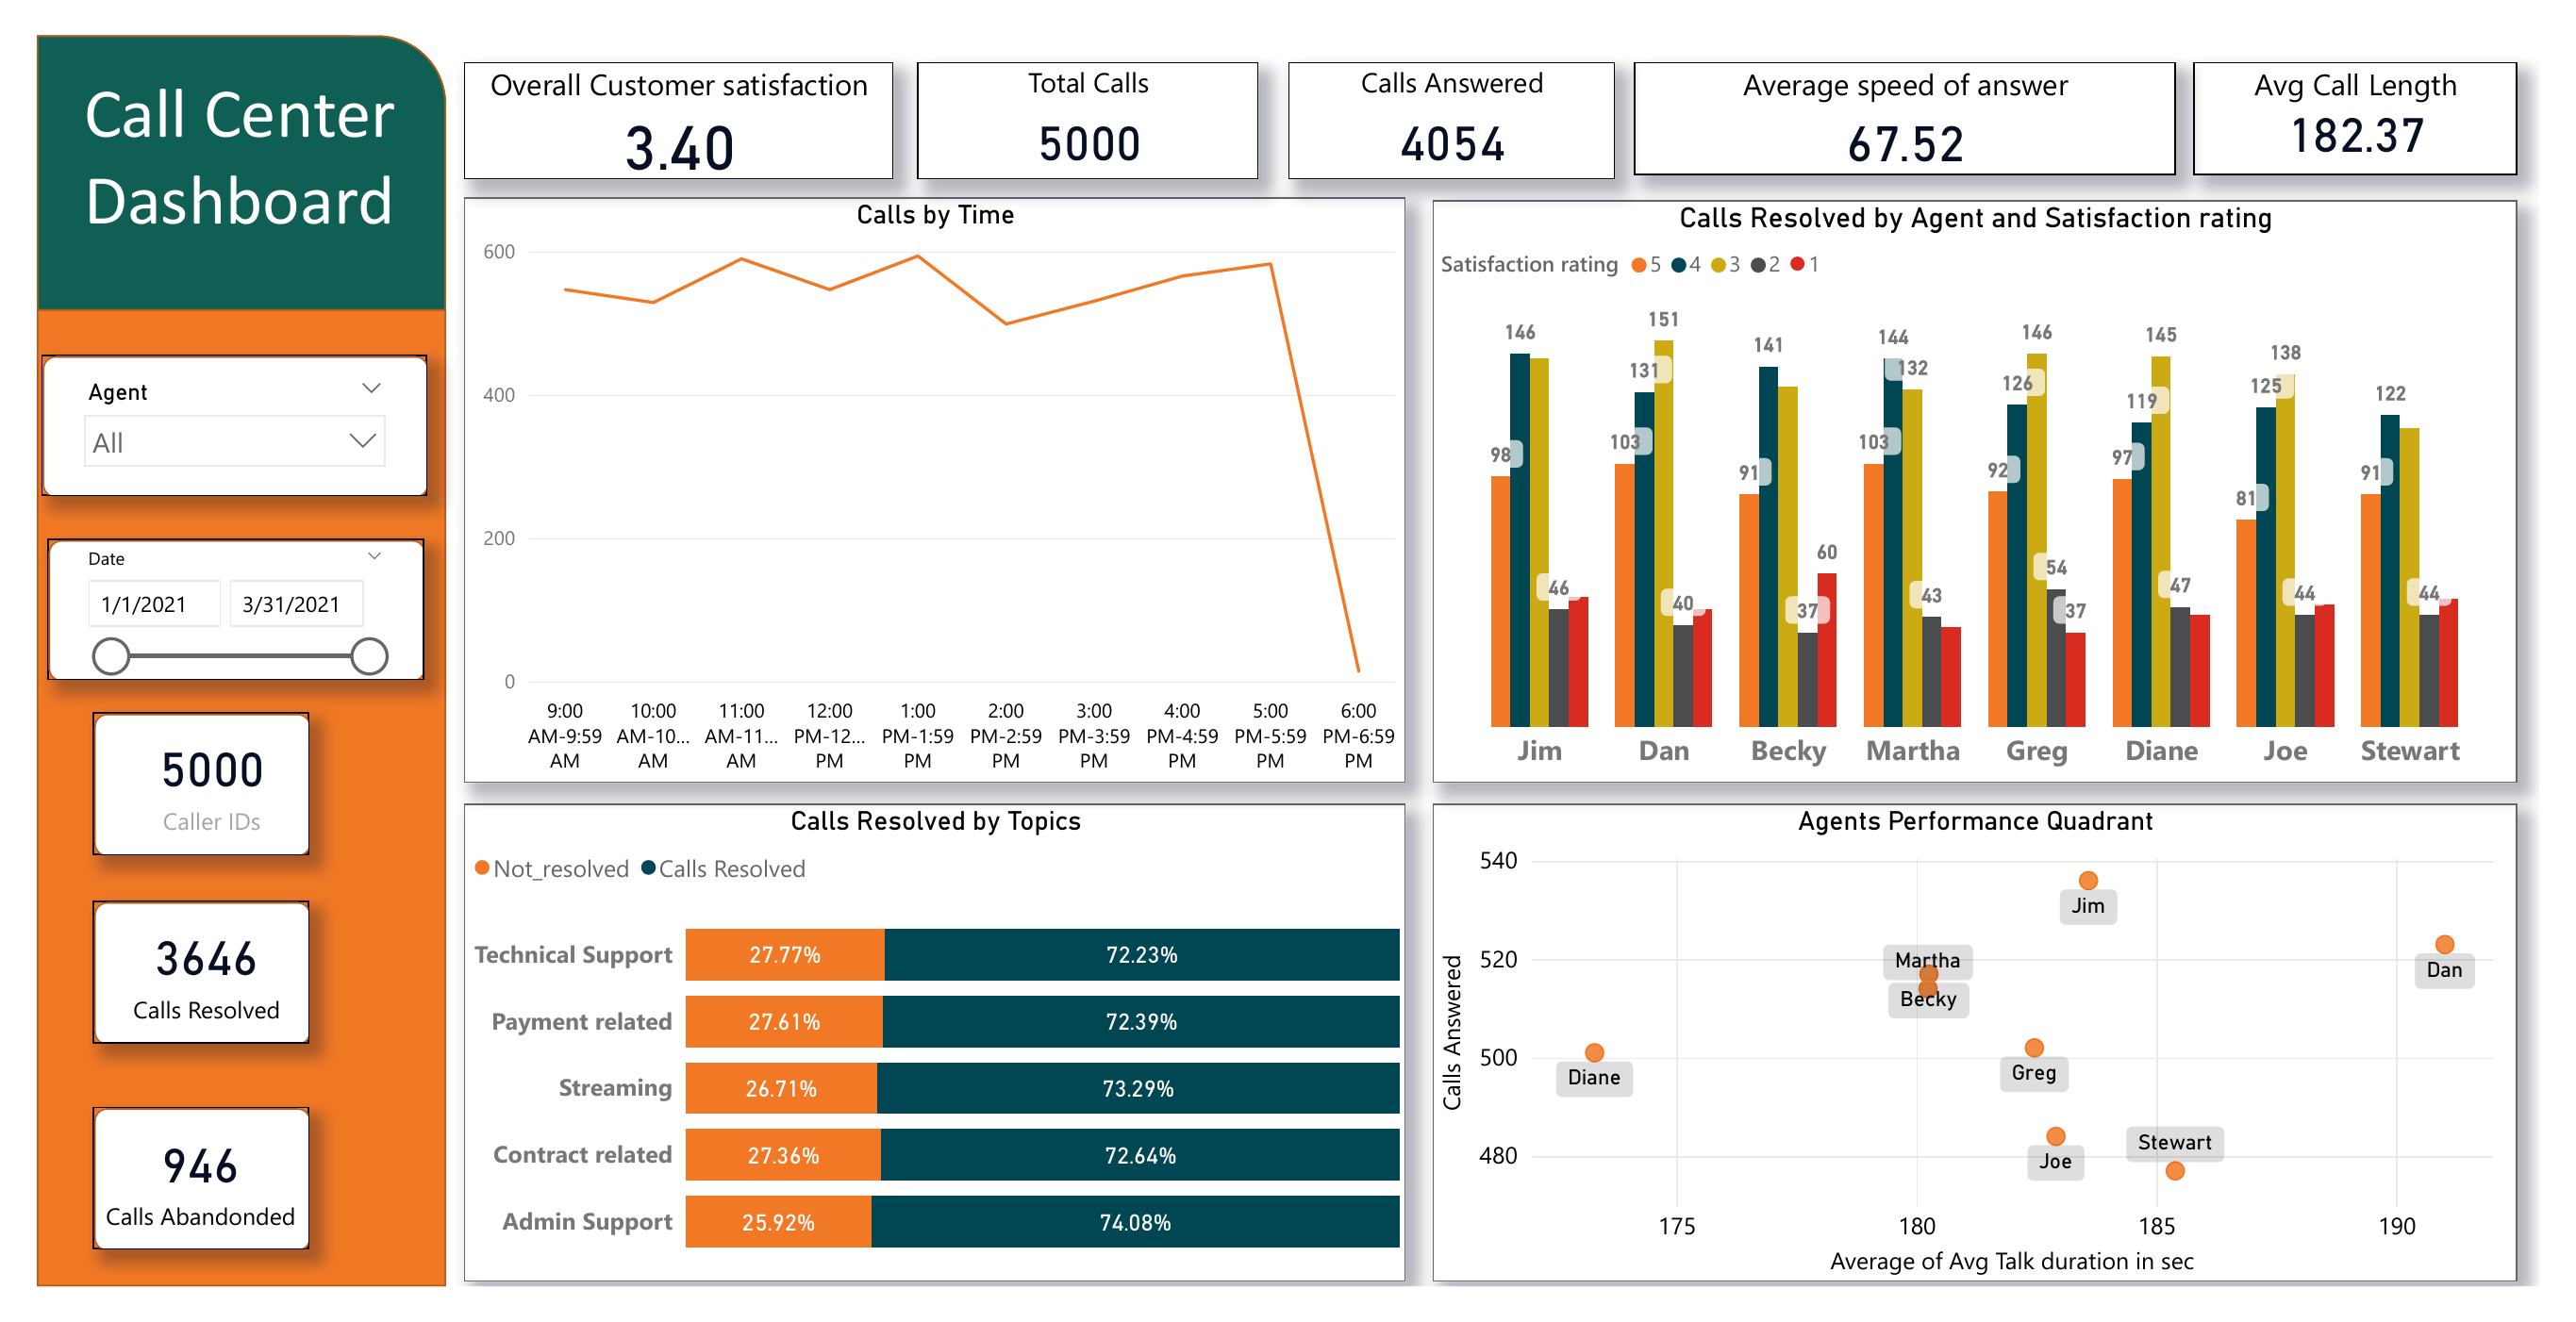

The page's visual inventory and layout, read from the dashboard file:
{"tool":"powerbi","page":{"name":"Page 1","canvas":[1700,850],"ordinal":0},"visuals":[{"type":"lineClusteredColumnComboChart","fields":{"Category":["Table1.Agent"],"Y":["Base Measures.Calls Resolved"],"Series":["Table1.Satisfaction rating"]},"box":[948.3,111.7,736.7,396.7],"z":3000},{"type":"card","title":"Average speed of answer","fields":{"Values":["Table1.Speed of answer in seconds"]},"box":[1085,18.3,368.3,76.7],"z":4000},{"type":"card","title":"Overall Customer satisfaction","fields":{"Values":["Table1.Satisfaction rating"]},"box":[290,18.3,291.7,80],"z":5000},{"type":"slicer","fields":{"Values":["Table1.Agent"]},"box":[26.7,216.7,225,81.7],"z":6000},{"type":"scatterChart","title":"Agents Performance Quadrant","fields":{"X":["Table1.Avg Talk duration in sec"],"Category":["Table1.Agent"],"Y":["Base Measures.Calls Answered"]},"box":[948.3,521.7,736.7,325],"z":8000},{"type":"card","title":"Avg Call Length","fields":{"Values":["Table1.Avg Talk duration in sec"]},"box":[1465,18.3,220,76.7],"z":9000},{"type":"hundredPercentStackedBarChart","title":"Calls Resolved by Topics","fields":{"Category":["Table1.Topic"],"Y":["Base Measures.Not_resolved","Base Measures.Calls Resolved"]},"box":[290,521.7,640,325],"z":10000},{"type":"lineChart","title":"Calls by Time ","fields":{"Y":["Base Measures.Total calls"],"Category":["Table1.Time interval"]},"box":[290,110,640,398.3],"z":10001},{"type":"shape","box":[0,0,278.3,850],"z":10002},{"type":"shape","box":[38.3,460,146.7,96.7],"z":10005},{"type":"card","title":"Calls Answered","fields":{"Values":["Base Measures.Calls Answered"]},"box":[850,18.3,221.7,80],"z":10006},{"type":"shape","box":[38.3,588.3,146.7,96.7],"z":10007},{"type":"shape","box":[38.3,728.3,146.7,96.7],"z":10008},{"type":"card","fields":{"Values":["Base Measures.Calls Abandonded"]},"box":[38.3,726.7,146.7,98.3],"z":10009},{"type":"card","fields":{"Values":["Base Measures.Calls Resolved"]},"box":[48.3,593.3,135,85],"z":10010},{"type":"shape","box":[6.7,341.7,256.7,96.7],"z":10013},{"type":"textbox","box":[26.7,18.3,373.3,131.7],"z":10016},{"type":"card","title":"Total Calls","fields":{"Values":["Base Measures.Total calls"]},"box":[598.3,18.3,231.7,80],"z":10017},{"type":"card","fields":{"Values":["Table1.Caller IDs"]},"box":[0,465,238.3,85],"z":10018},{"type":"slicer","fields":{"Values":["Table1.Date"]},"box":[21.7,341.7,225,96.7],"z":10019},{"type":"shape","box":[3.3,216.7,261.7,96.7],"z":10020},{"type":"slicer","fields":{"Values":["Table1.Agent"]},"box":[21.7,228.3,225,101.7],"z":10021},{"type":"shape","box":[0,0,278.3,186.7],"z":10022},{"type":"textbox","box":[26.7,18.3,373.3,143.3],"z":10023}]}

Visuals, with their boxes on the page's 1700x850 design canvas (x1, y1, x2, y2). These are canvas units, not pixel positions in the 2576x1322 screenshot, which may show the page scaled, cropped or inside an application window:
lineClusteredColumnComboChart - Table1.Agent x Base Measures.Calls Resolved: bbox=[948, 112, 1685, 508]
"Average speed of answer" card: bbox=[1085, 18, 1453, 95]
"Overall Customer satisfaction" card: bbox=[290, 18, 582, 98]
slicer - Table1.Agent: bbox=[27, 217, 252, 298]
"Agents Performance Quadrant" scatterChart: bbox=[948, 522, 1685, 847]
"Avg Call Length" card: bbox=[1465, 18, 1685, 95]
"Calls Resolved by Topics" hundredPercentStackedBarChart: bbox=[290, 522, 930, 847]
"Calls by Time " lineChart: bbox=[290, 110, 930, 508]
shape: bbox=[0, 0, 278, 850]
shape: bbox=[38, 460, 185, 557]
"Calls Answered" card: bbox=[850, 18, 1072, 98]
shape: bbox=[38, 588, 185, 685]
shape: bbox=[38, 728, 185, 825]
card - Base Measures.Calls Abandonded: bbox=[38, 727, 185, 825]
card - Base Measures.Calls Resolved: bbox=[48, 593, 183, 678]
shape: bbox=[7, 342, 263, 438]
textbox: bbox=[27, 18, 400, 150]
"Total Calls" card: bbox=[598, 18, 830, 98]
card - Table1.Caller IDs: bbox=[0, 465, 238, 550]
slicer - Table1.Date: bbox=[22, 342, 247, 438]
shape: bbox=[3, 217, 265, 313]
slicer - Table1.Agent: bbox=[22, 228, 247, 330]
shape: bbox=[0, 0, 278, 187]
textbox: bbox=[27, 18, 400, 162]
